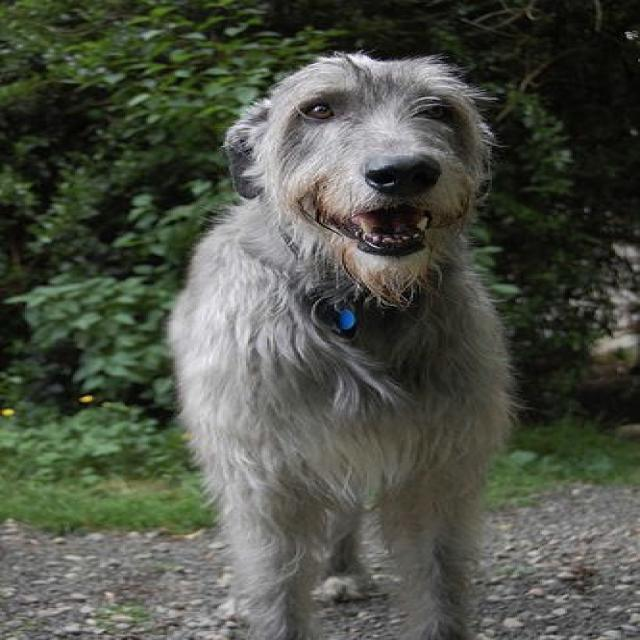irish_wolfhound: (165, 52, 519, 638)
